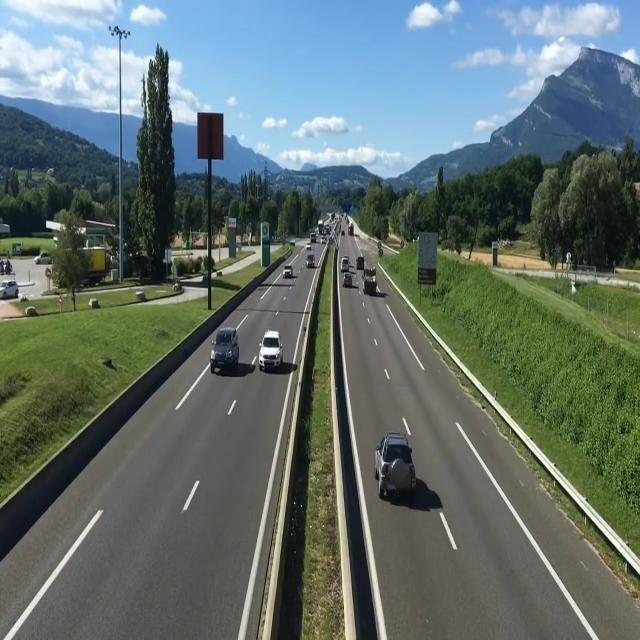Car: (373, 432, 418, 496), (210, 325, 240, 373), (258, 328, 283, 372), (279, 263, 294, 284), (343, 274, 354, 287)
Truck: (359, 266, 378, 296)
